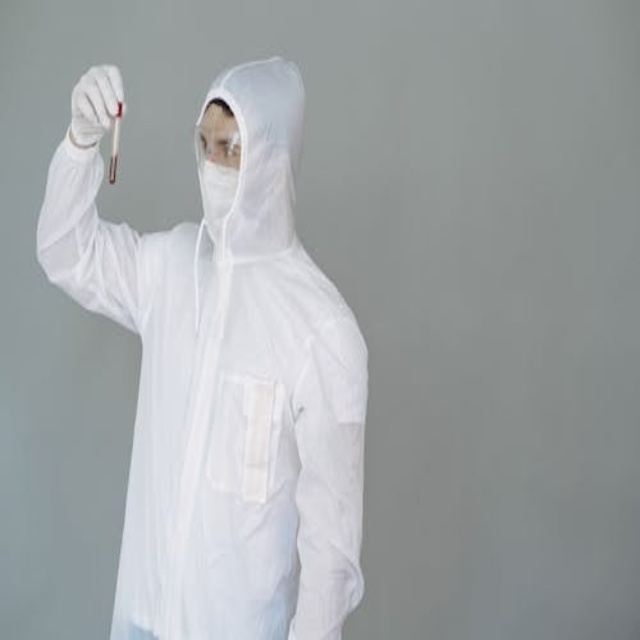Gafas: (199, 130, 240, 162)
Guantes: (69, 64, 124, 150)
Mascara: (198, 148, 241, 227)
